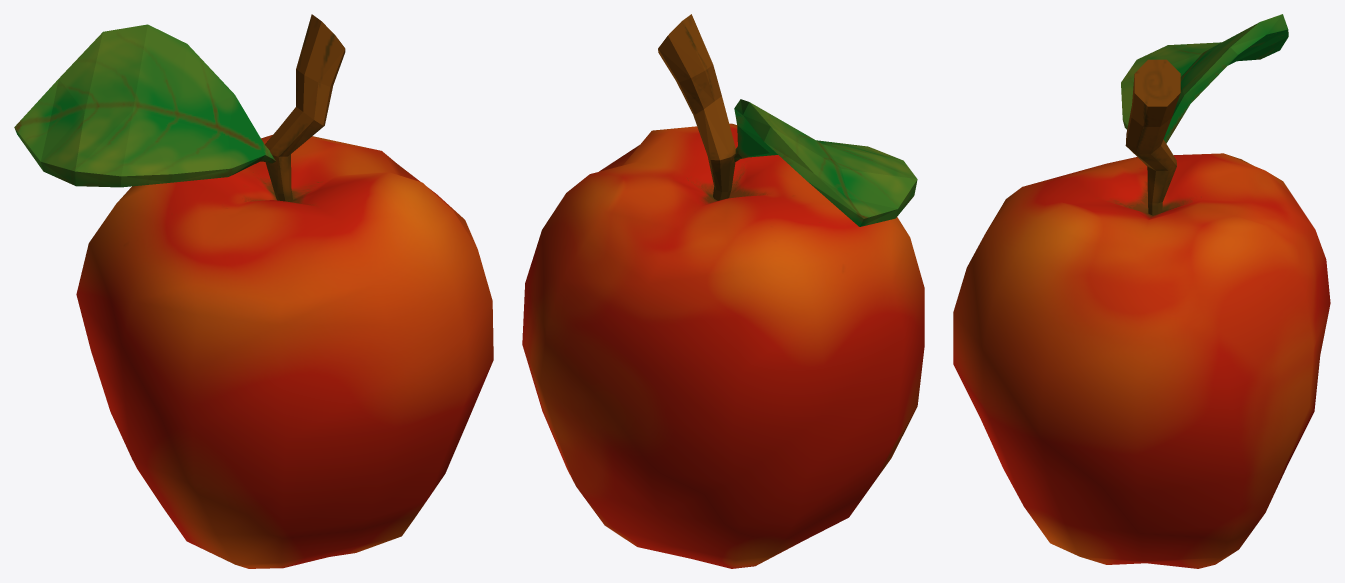
File: R01_Apple.fbx
The picture shows the model from 3 angles, left to right: view 1: azimuth 30°, elevation 25°; view 2: azimuth 150°, elevation 25°; view 3: azimuth 270°, elevation 25°; orthographic projection. The views are drawn at different scales.
Visible parts, largest first — view 1: apple; view 2: apple; view 3: apple.
Boxes of the visible parts, bbox=[...] form: apple: bbox=[14, 14, 493, 568]; apple: bbox=[522, 14, 924, 568]; apple: bbox=[953, 14, 1330, 568].
Size of the model in its own units: 17.64 by 22.12 by 15.12.
